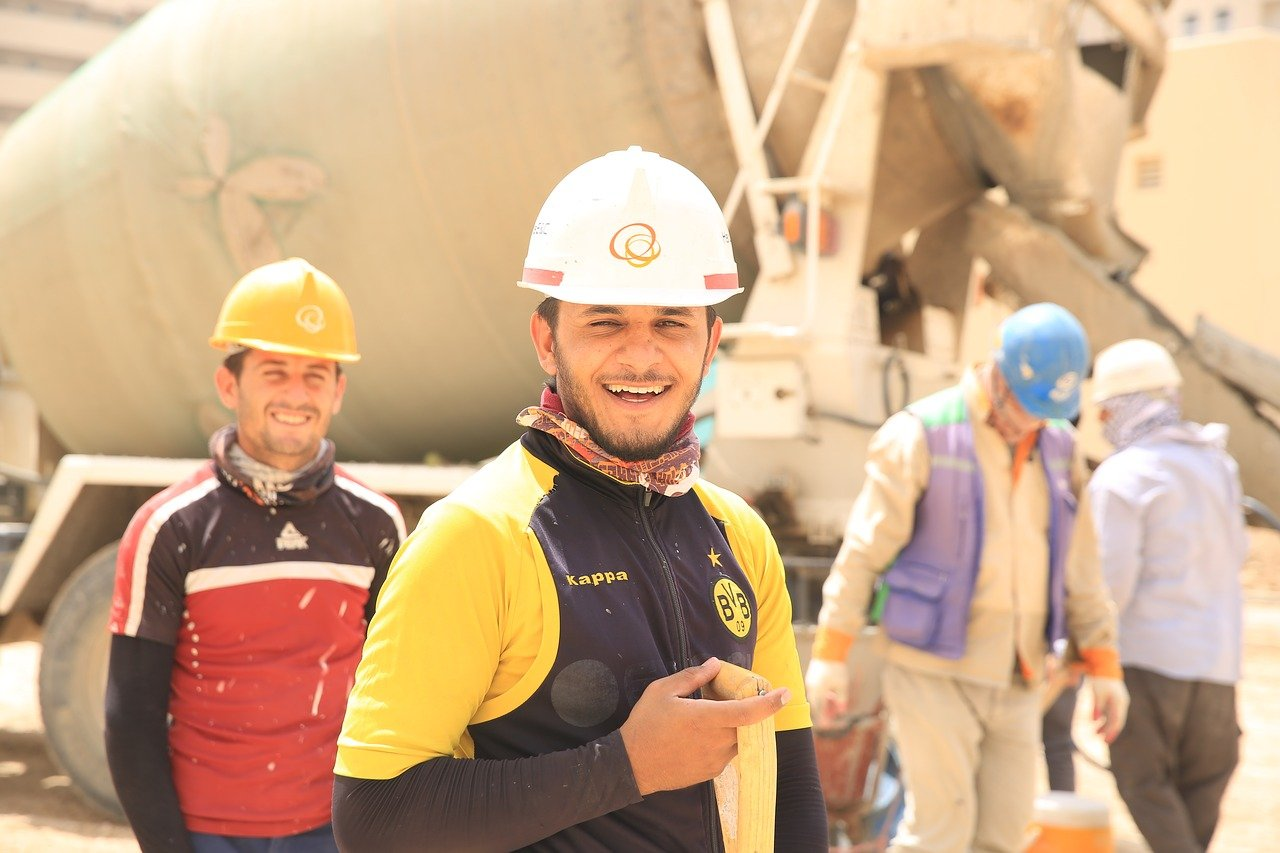Hard Hat: (514, 148, 749, 456), (205, 260, 359, 468), (977, 306, 1089, 441), (1093, 349, 1185, 446)
Person: (332, 148, 834, 848), (807, 295, 1139, 846), (99, 265, 409, 847), (1089, 342, 1248, 850)
